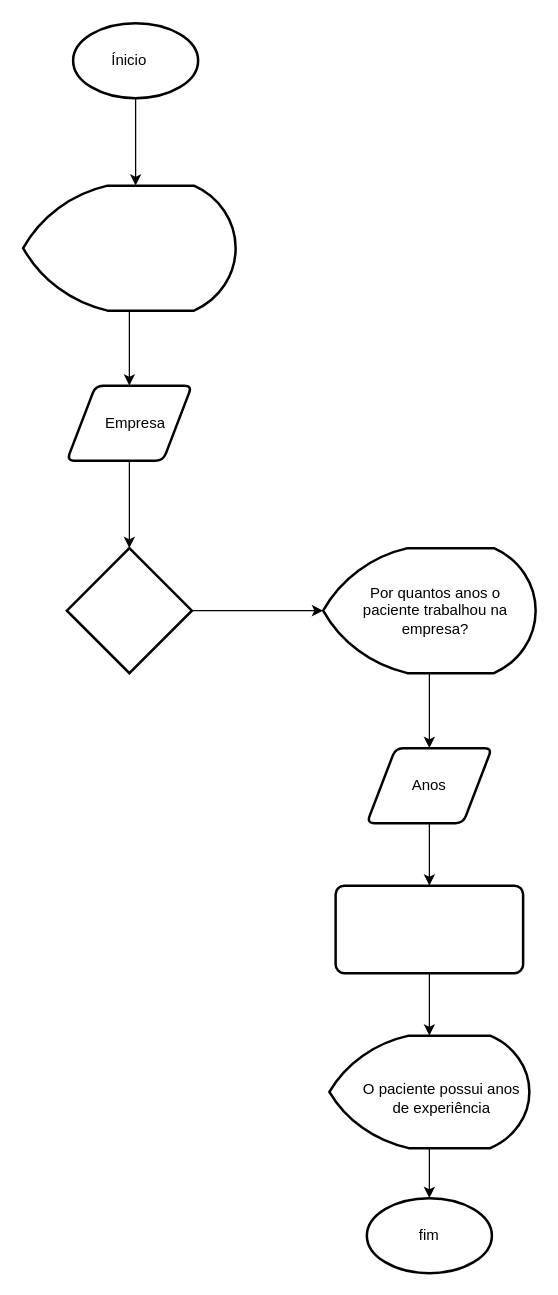
This 558x1295 diagram has some shape labels left out. The shapes that lost their labels are listed below. From the top down, each one's centre as x and y in pixels, then its label:
(x=128, y=247): Em quantas empresas o paciente já trabalhou
(x=128, y=610): i < número de empresa
(x=429, y=929): experiência + anos
